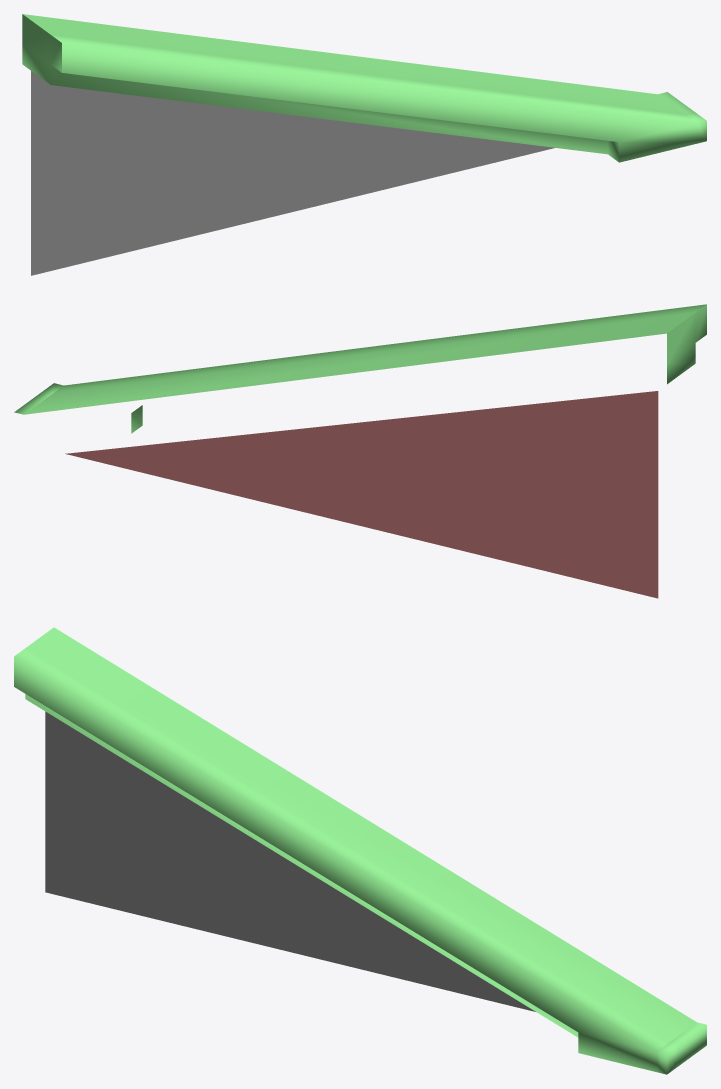
Rendered from SM_roof_04_ending.gltf.
3 renders of one model, top to bottom at view 1: azimuth 30°, elevation 25°; view 2: azimuth 150°, elevation 25°; view 3: azimuth 330°, elevation 25°, orthographic.
Parts seen in each view (by area): view 1: SM_roof_04_ending; view 2: SM_roof_04_ending; view 3: SM_roof_04_ending.
Boxes of the visible parts, bbox=[...] form: SM_roof_04_ending: bbox=[22, 14, 706, 275]; SM_roof_04_ending: bbox=[14, 304, 706, 598]; SM_roof_04_ending: bbox=[14, 627, 706, 1074].
Size of the model in its own units: 6.6 by 2.5 by 0.85.
